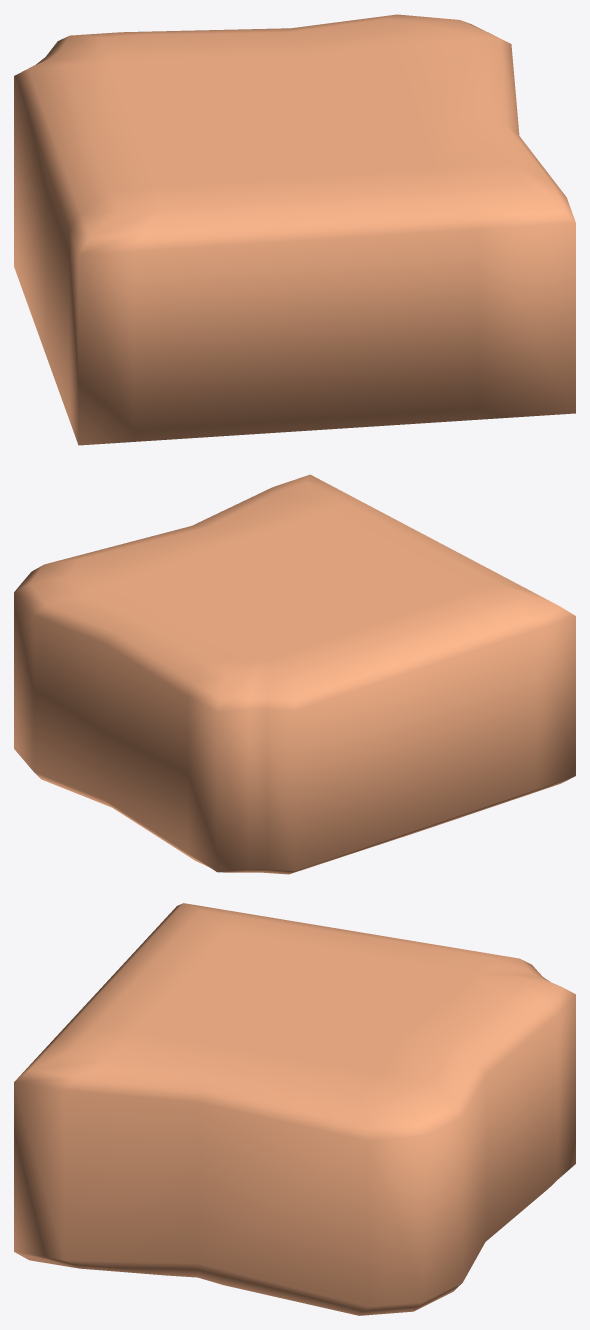
File: stone flate.fbx
3 renders of one model, top to bottom at view 1: azimuth 30°, elevation 25°; view 2: azimuth 150°, elevation 25°; view 3: azimuth 270°, elevation 25°, orthographic. The views are drawn at different scales.
Visible parts, largest first — view 1: Cube.007; view 2: Cube.007; view 3: Cube.007.
Boxes of the visible parts, x1,y1,x2,y2 form: Cube.007: (14,14,575,445); Cube.007: (14,474,575,874); Cube.007: (14,903,575,1315).
Size of the model in its own units: 204 by 81.04 by 206.
